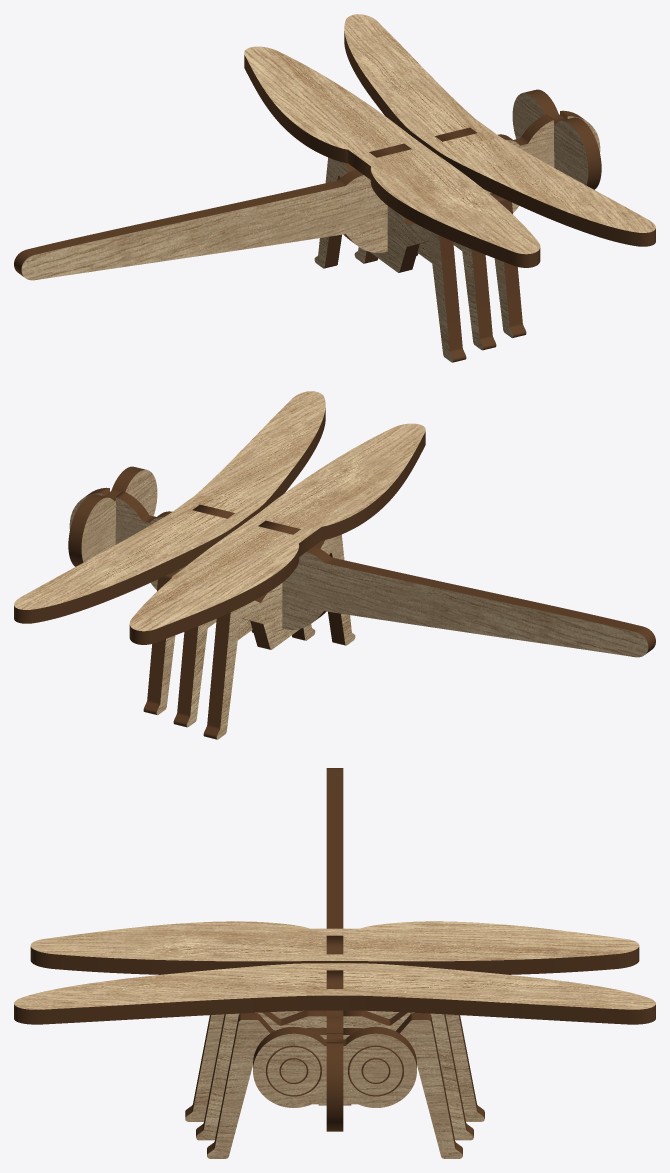
File: pocket-dragonfly.glb
3 renders of one model, top to bottom at view 1: azimuth 30°, elevation 25°; view 2: azimuth 150°, elevation 25°; view 3: azimuth 270°, elevation 25°, orthographic. The views are drawn at different scales.
Visible parts, largest first — view 1: body6, body0, body5, body4, body1, body3, body2; view 2: body6, body0, body5, body4, body1, body3, body2; view 3: body5, body6, body1, body2, body3, body0, body4, score1.
Part boxes in pixels (box(x1,y1,x2,y2)): body6: box(244, 46, 540, 267); body0: box(14, 110, 600, 280); body5: box(344, 14, 655, 246); body4: box(314, 157, 466, 362); body1: box(512, 89, 601, 189); body3: box(354, 241, 496, 350); body2: box(416, 193, 526, 338); body6: box(129, 423, 425, 644); body0: box(69, 487, 655, 657); body5: box(14, 391, 325, 623); body4: box(203, 534, 355, 739); body1: box(68, 466, 157, 566); body3: box(173, 618, 315, 727); body2: box(143, 570, 253, 715); body5: box(14, 963, 655, 1024); body6: box(30, 921, 639, 974); body1: box(253, 1026, 416, 1107); body2: box(207, 1013, 462, 1158); body3: box(196, 1010, 473, 1140); body0: box(326, 768, 343, 1131); body4: box(185, 1010, 484, 1121); score1: box(266, 1045, 403, 1096).
Size of the model in its own units: 0.132 by 0.0355 by 0.1173.
3 materials, 1 textured.
